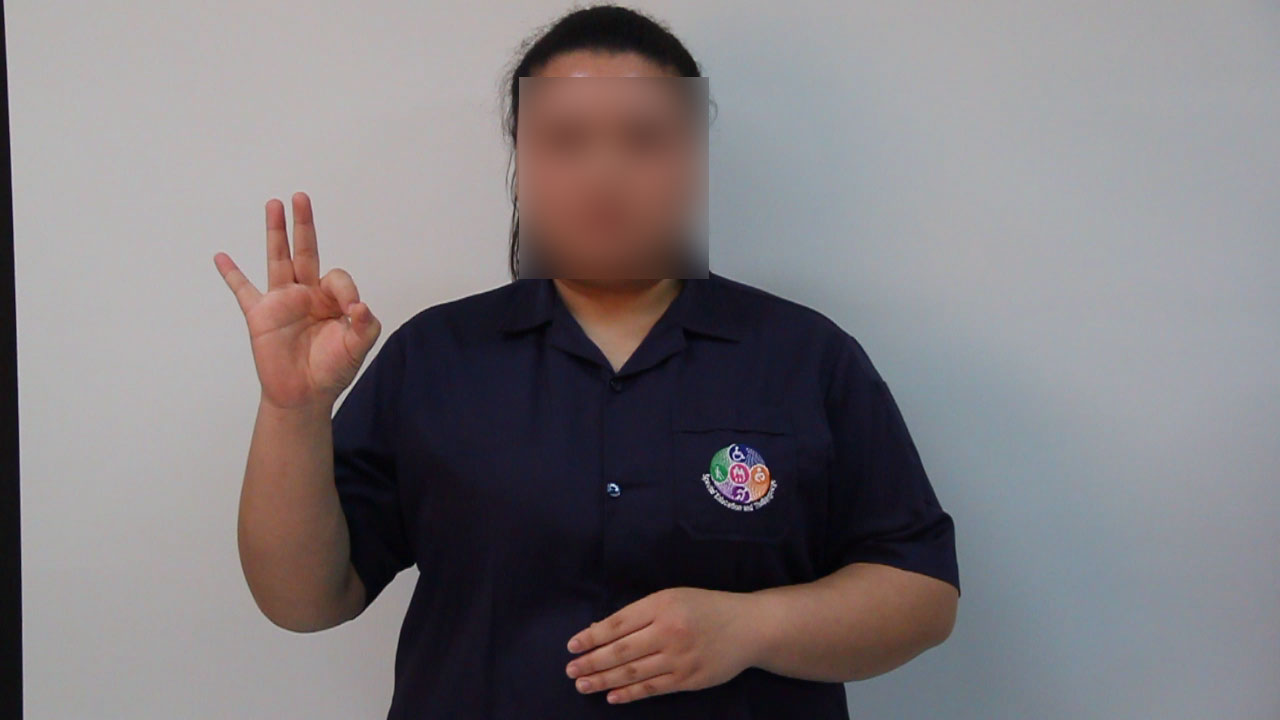for: (202, 181, 390, 412)
